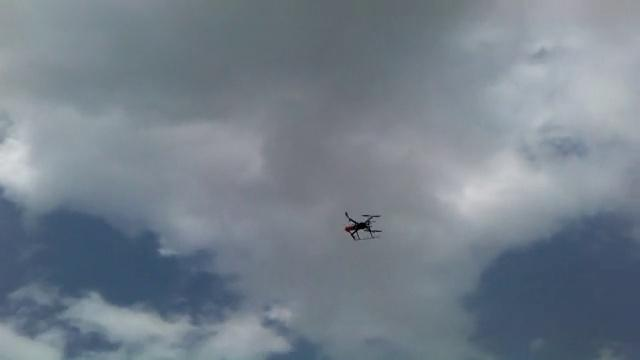drone: (341, 209, 382, 242)
